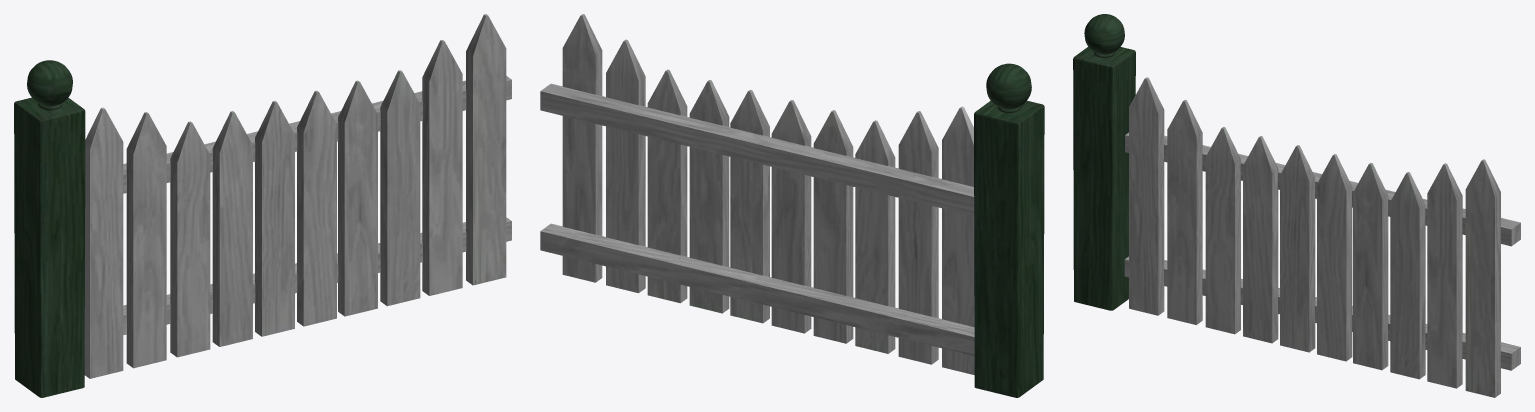
File: picket-fence.lod0.glb
The picture shows the model from 3 angles, left to right: view 1: azimuth 30°, elevation 25°; view 2: azimuth 150°, elevation 25°; view 3: azimuth 330°, elevation 25°; orthographic projection. The views are drawn at different scales.
Parts seen in each view (by area): view 1: defaultMaterial; view 2: defaultMaterial; view 3: defaultMaterial.
Part boxes in pixels (x1=…): defaultMaterial: x1=14, y1=14, x2=511, y2=397; defaultMaterial: x1=540, y1=14, x2=1044, y2=397; defaultMaterial: x1=1073, y1=14, x2=1520, y2=397.
Bounding box in the file's own units: 2.3 × 1.45 × 0.221.
1 material, 1 textured.
